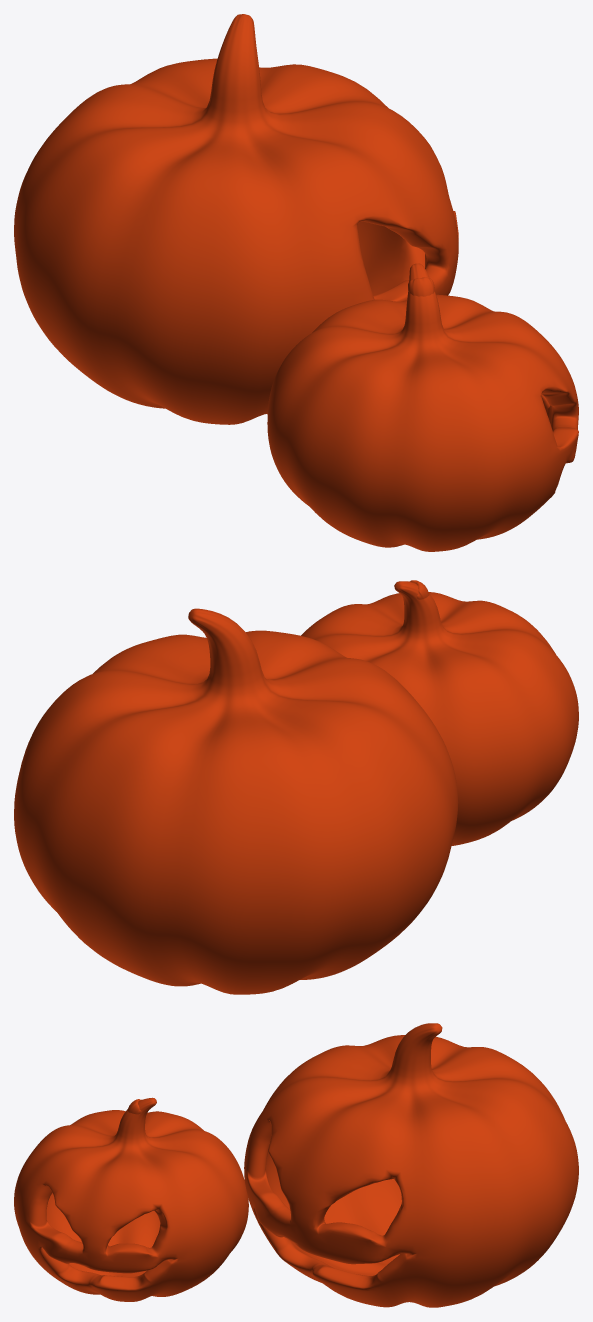
The model's file is pumpkins.obj.
3 renders of one model, top to bottom at view 1: azimuth 30°, elevation 25°; view 2: azimuth 150°, elevation 25°; view 3: azimuth 270°, elevation 25°, orthographic. The views are drawn at different scales.
Visible parts, largest first — view 1: pumpkins; view 2: pumpkins; view 3: pumpkins.
Boxes of the visible parts, x1,y1,x2,y2 form: pumpkins: [14, 14, 578, 551]; pumpkins: [14, 580, 578, 994]; pumpkins: [14, 1023, 578, 1307].
Bounding box in the file's own units: 0.7328 × 0.6581 × 1.25.
